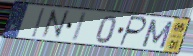0: (94, 14, 118, 45)
I: (70, 11, 89, 43), (30, 7, 47, 39)
M: (139, 18, 175, 50)
N: (40, 8, 71, 40)
P: (118, 15, 149, 48)
